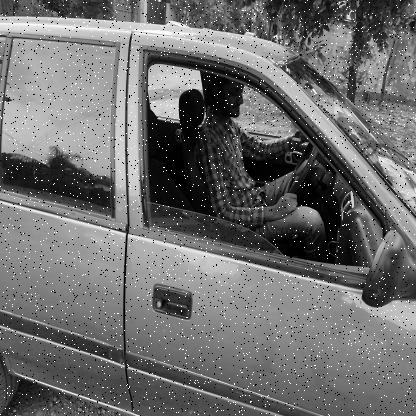no_seatbelt: (211, 84, 254, 197)
